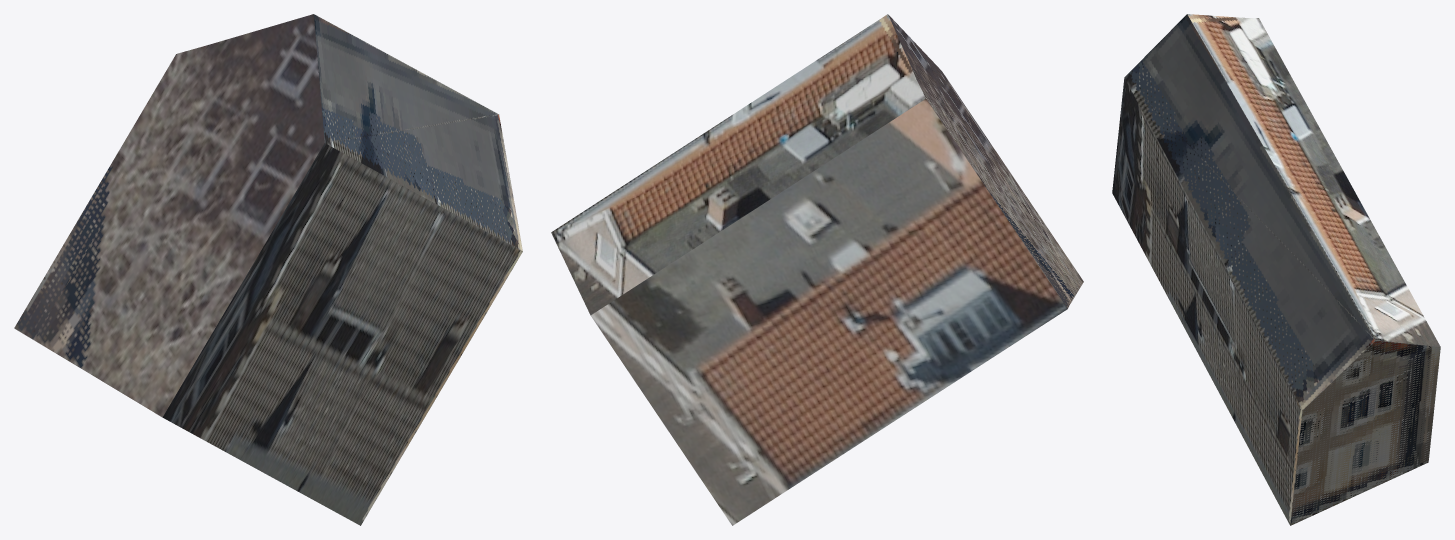
The picture shows the model from 3 angles, left to right: view 1: azimuth 30°, elevation 25°; view 2: azimuth 150°, elevation 25°; view 3: azimuth 270°, elevation 25°; orthographic projection. The views are drawn at different scales.
Parts seen in each view (by area): view 1: BAG_0599100000656923 (×3); view 2: BAG_0599100000656923 (×3); view 3: BAG_0599100000656923 (×3).
Boxes of the visible parts, left/top/right/bottom form: BAG_0599100000656923 (×3): left=14, top=14, right=522, bottom=525; BAG_0599100000656923 (×3): left=551, top=14, right=1083, bottom=525; BAG_0599100000656923 (×3): left=1112, top=14, right=1440, bottom=525.
Bounding box in the file's own units: 15.77 × 15.62 × 9.93.
Materials: 3 (3 with a texture image).
